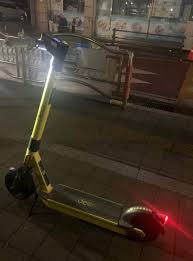kick_board: (4, 34, 160, 240)
kick_handler: (38, 34, 69, 65)
kick_neck: (26, 61, 56, 160)
kick_wheel: (123, 207, 159, 240), (6, 167, 33, 196)
